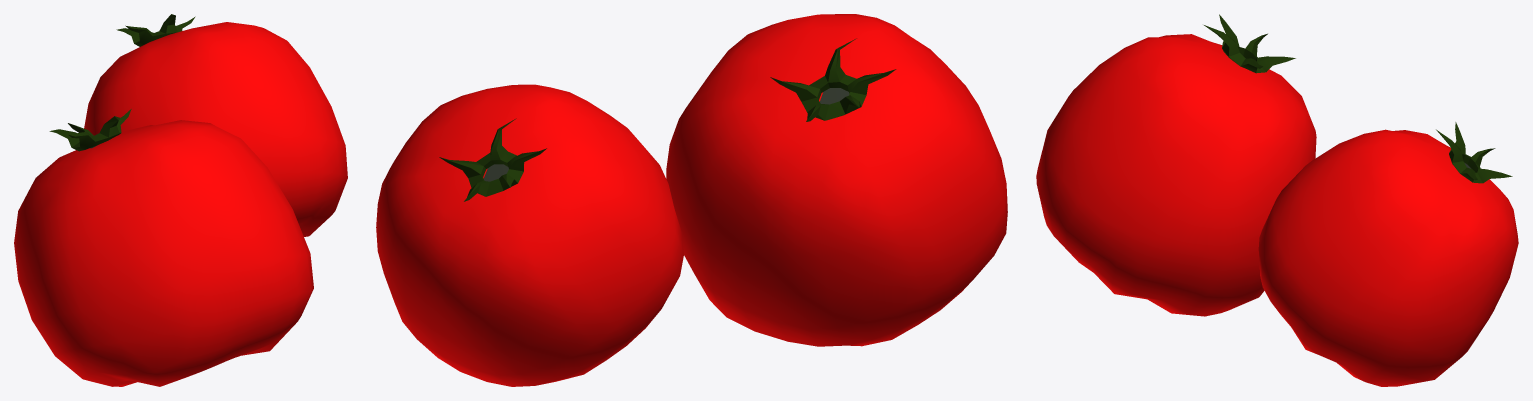
Rendered from model-tomato1.dae.
The picture shows the model from 3 angles, left to right: view 1: azimuth 30°, elevation 25°; view 2: azimuth 150°, elevation 25°; view 3: azimuth 270°, elevation 25°; orthographic projection. The views are drawn at different scales.
Parts seen in each view (by area): view 1: group_5, group_2, group_4, group_1; view 2: group_5, group_2, group_4, group_1; view 3: group_5, group_2, group_4, group_1.
Part boxes in pixels (bbox=[...]): group_5: bbox=[14, 120, 313, 386]; group_2: bbox=[84, 22, 347, 236]; group_4: bbox=[49, 109, 131, 151]; group_1: bbox=[116, 14, 195, 46]; group_5: bbox=[666, 14, 1007, 346]; group_2: bbox=[376, 84, 683, 386]; group_4: bbox=[770, 38, 896, 121]; group_1: bbox=[439, 118, 546, 201]; group_5: bbox=[1036, 34, 1316, 316]; group_2: bbox=[1258, 129, 1518, 386]; group_4: bbox=[1204, 14, 1295, 73]; group_1: bbox=[1436, 122, 1512, 183].
Bounding box in the file's own units: 5.49 × 5.9 × 3.39.
